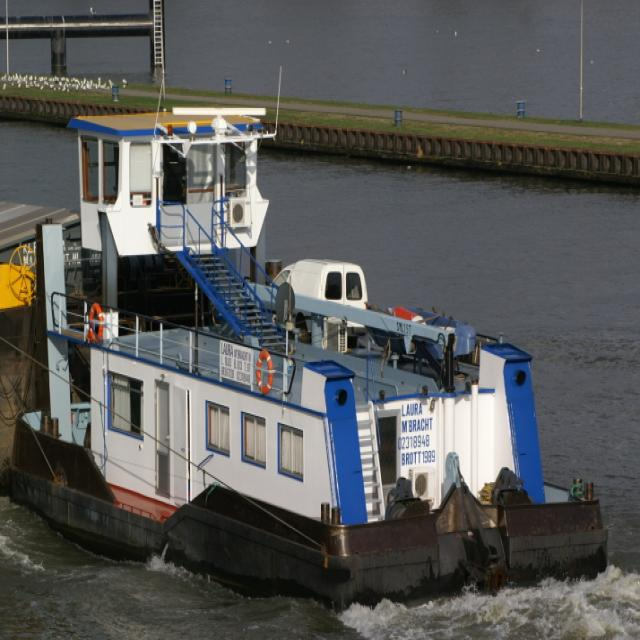tugboat: (5, 55, 615, 622)
